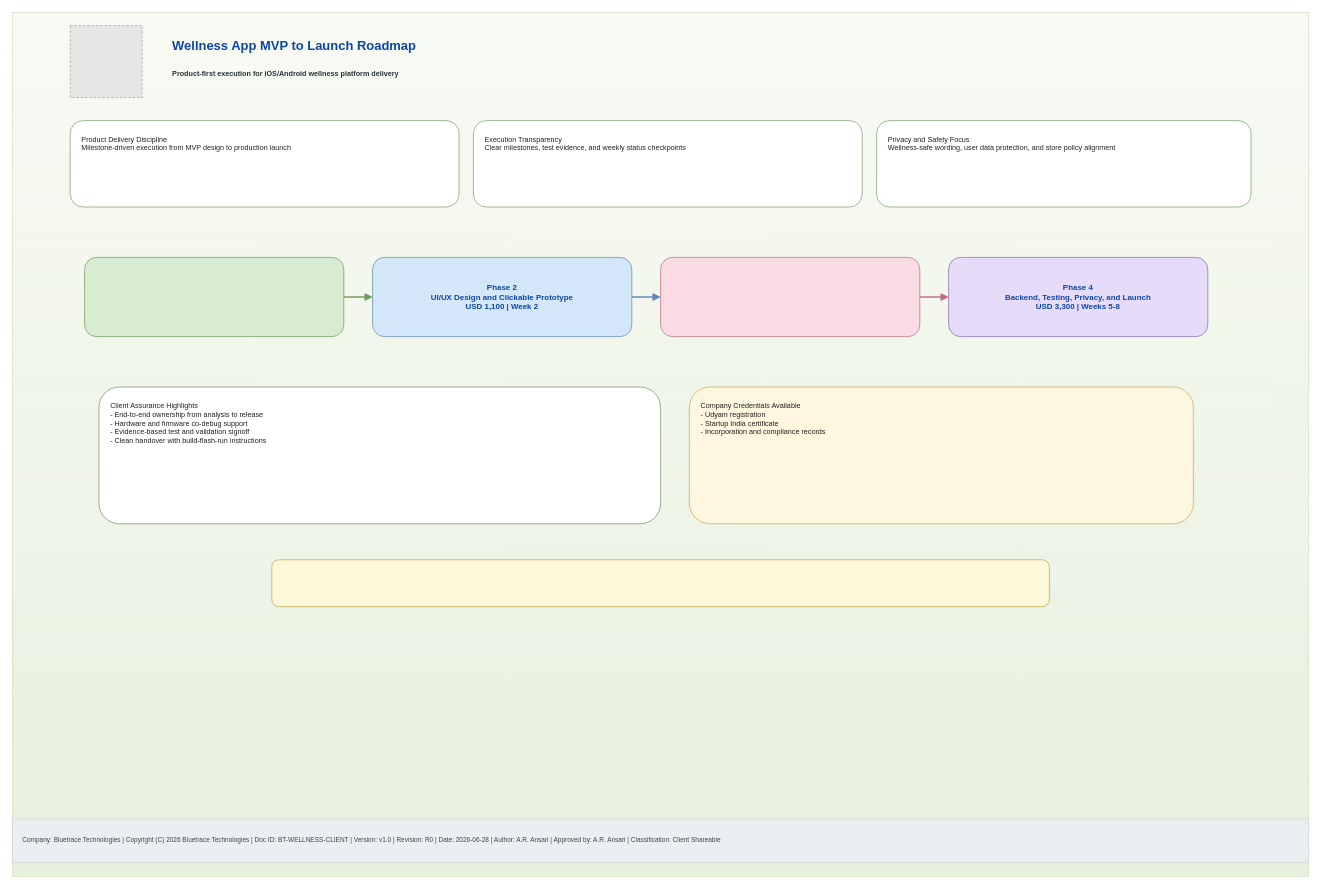
Image size: 1321x889. Some labels were removed from this diagram. Grey dashed boxes stand in for pictures. Here are the shapes that lost their labels. From the top down, the box of each, then its label:
(84, 257, 344, 337): Phase 1 Discovery, UX Flow, Wellness Architecture USD 900 | Week 1
(660, 257, 920, 337): Phase 3 Mobile MVP Build (Mood + Meditation) USD 1,700 | Weeks 3-4
(271, 559, 1049, 607): Estimated Overall Timeline: 8 weeks (within 1 to 3 months)
